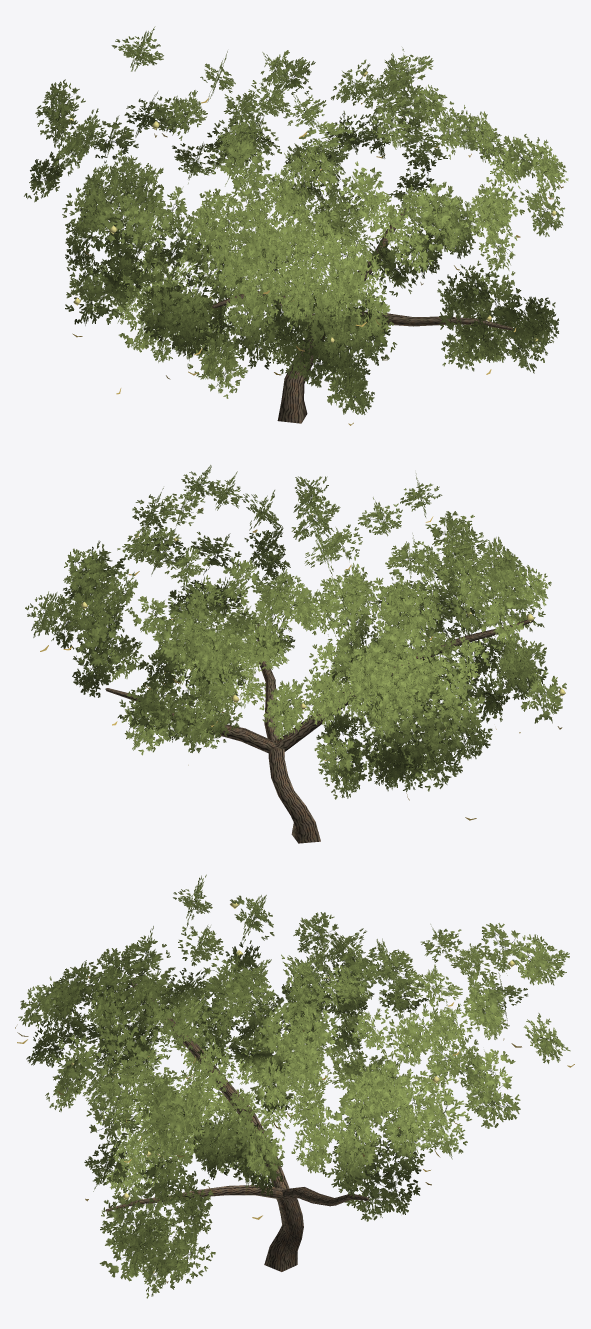
File: adult-b.lod1.glb
The picture shows the model from 3 angles, top to bottom: view 1: azimuth 30°, elevation 25°; view 2: azimuth 150°, elevation 25°; view 3: azimuth 270°, elevation 25°; orthographic projection. The views are drawn at different scales.
Visible parts, largest first — view 1: foliage, bark; view 2: foliage, bark; view 3: foliage, bark.
Boxes of the visible parts, bbox=[...] form: foliage: bbox=[24, 26, 568, 414]; bark: bbox=[212, 207, 512, 423]; foliage: bbox=[25, 465, 566, 799]; bark: bbox=[105, 619, 533, 843]; foliage: bbox=[18, 874, 570, 1298]; bark: bbox=[105, 980, 368, 1271].
Size of the model in its own units: 12.51 by 7.5 by 12.02.
Materials: 4 (2 with a texture image).
